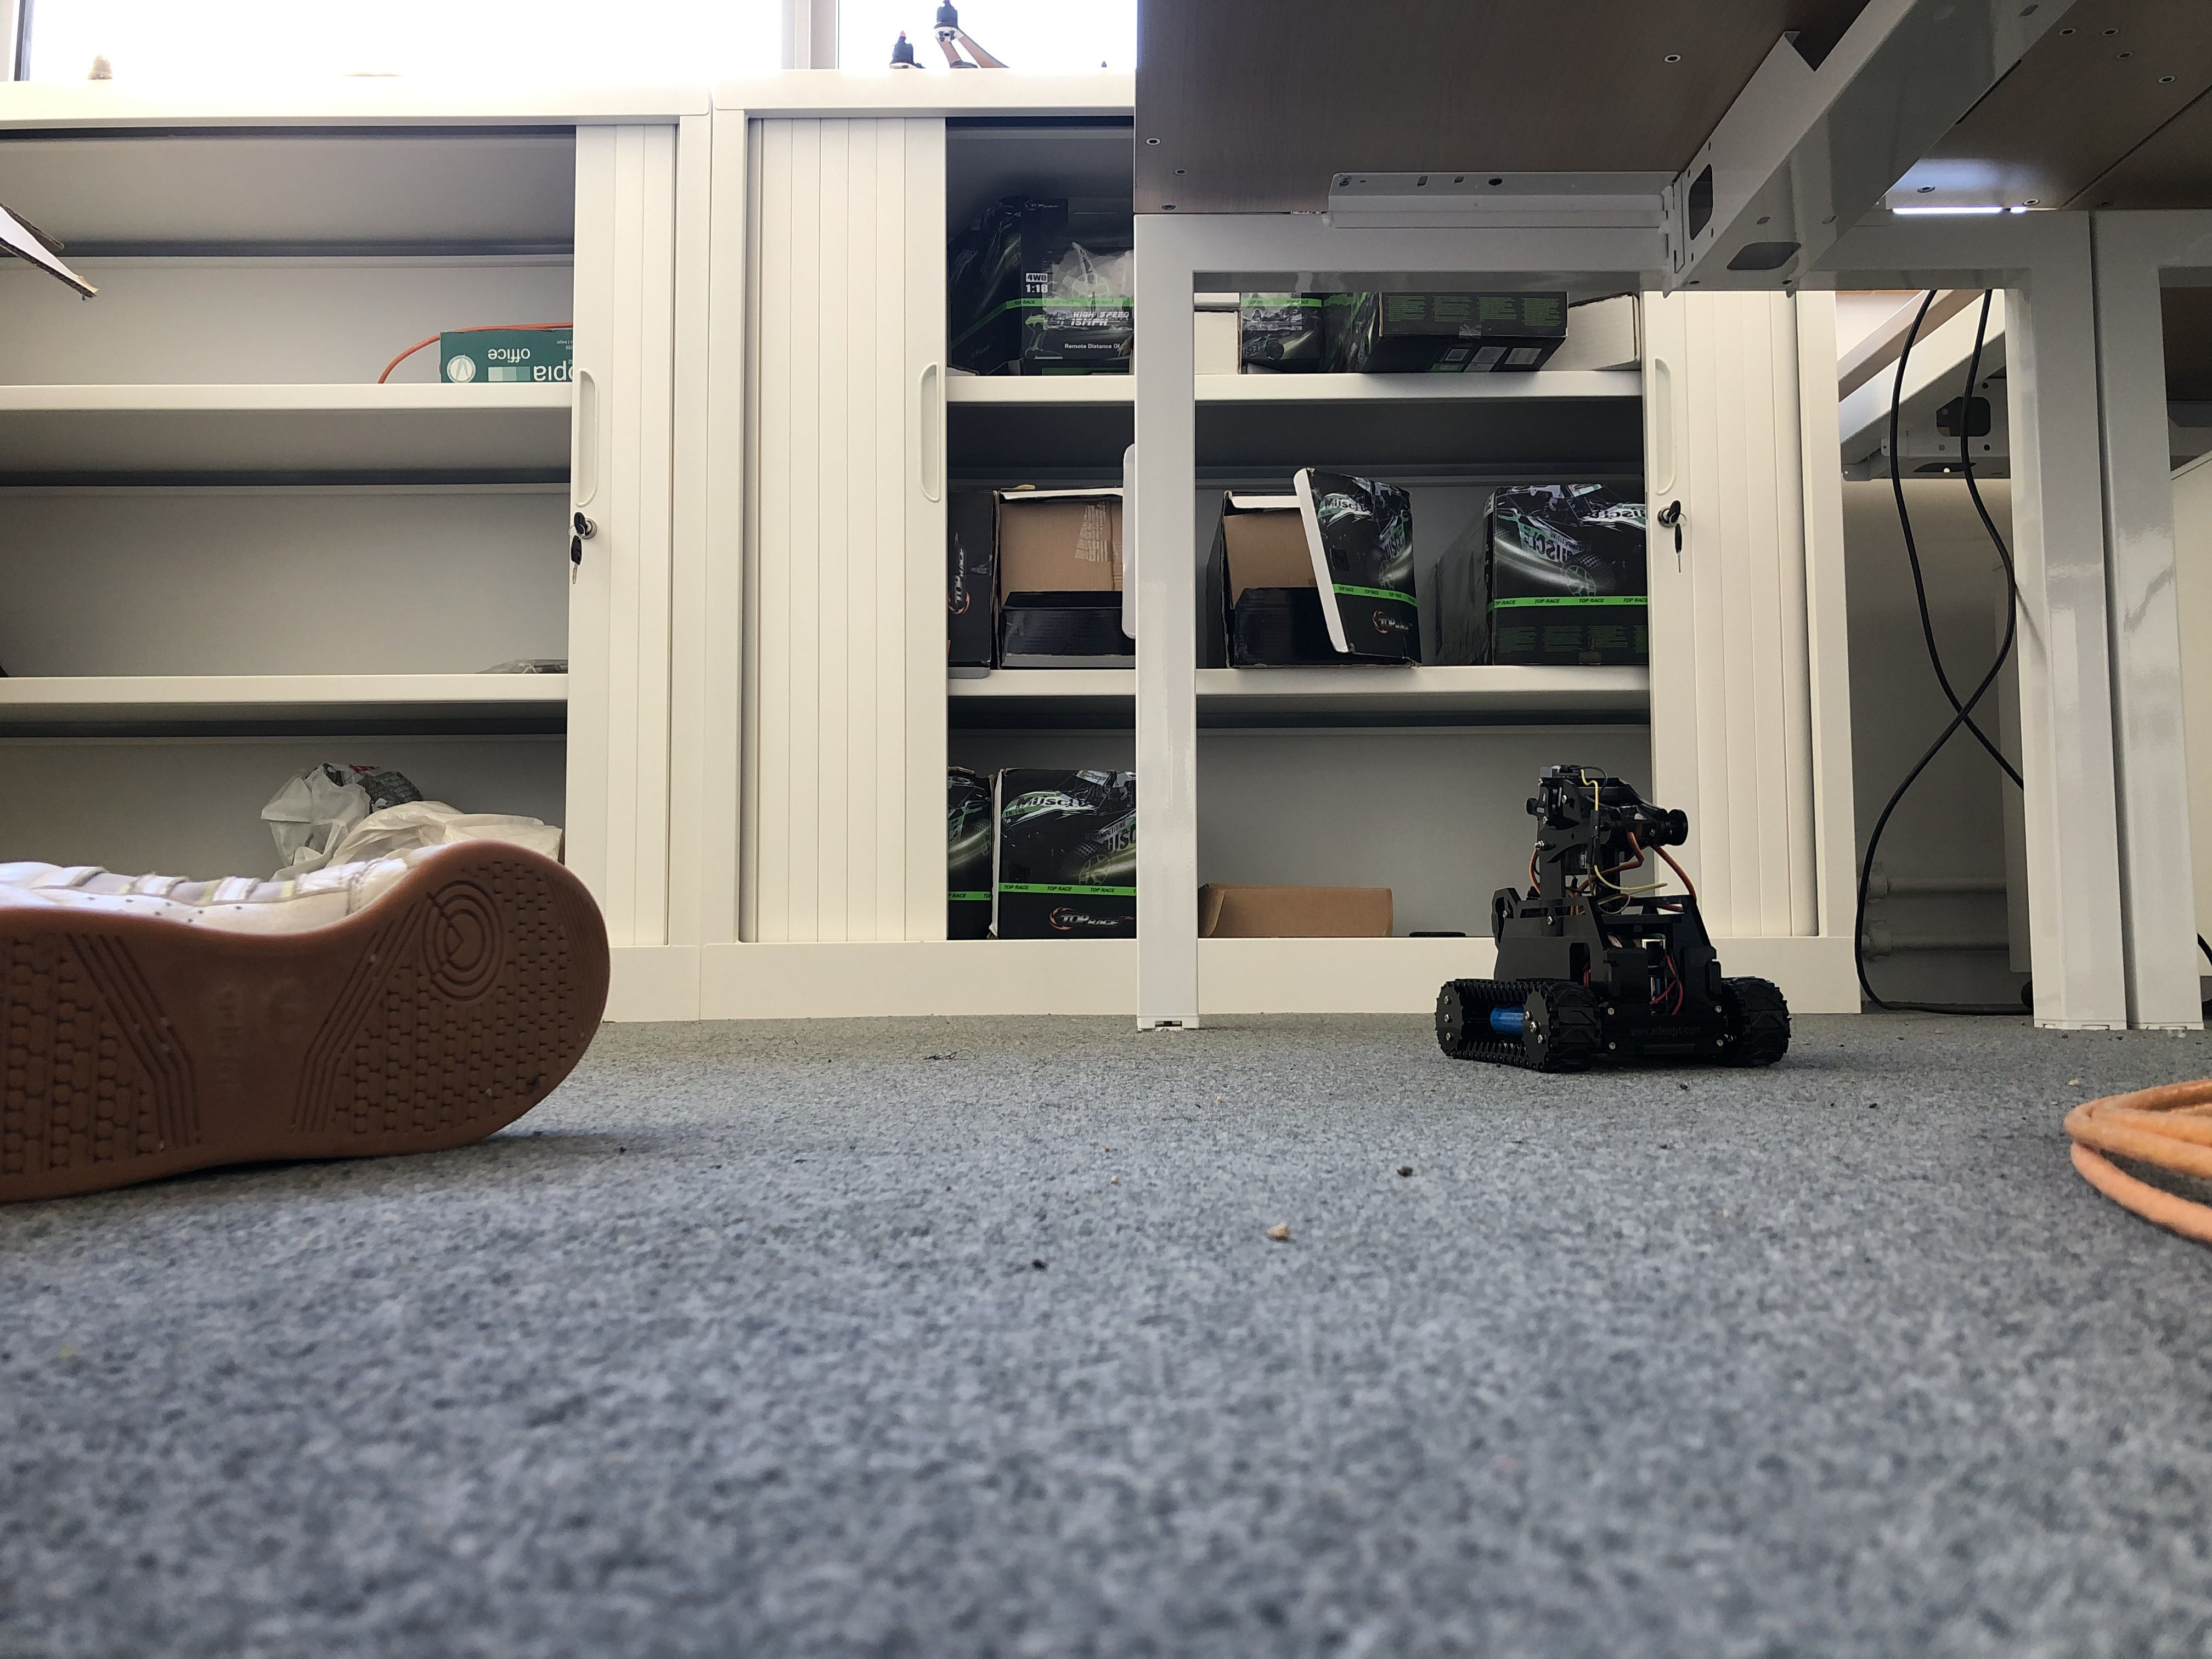rasptank: (1430, 755, 1791, 1072)
